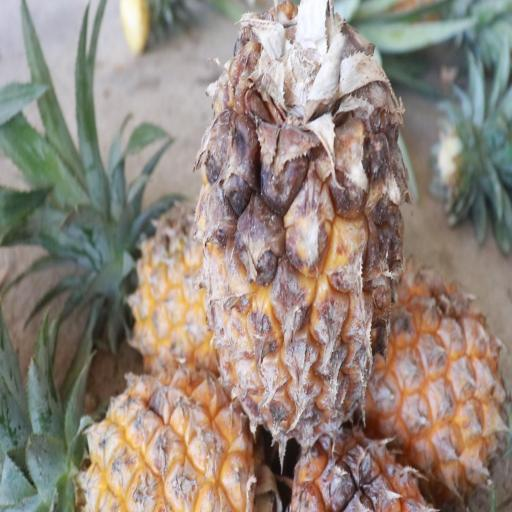Pineapple - v8 v1: (200, 5, 414, 445), (361, 254, 512, 512), (88, 192, 264, 378), (54, 364, 269, 512)
